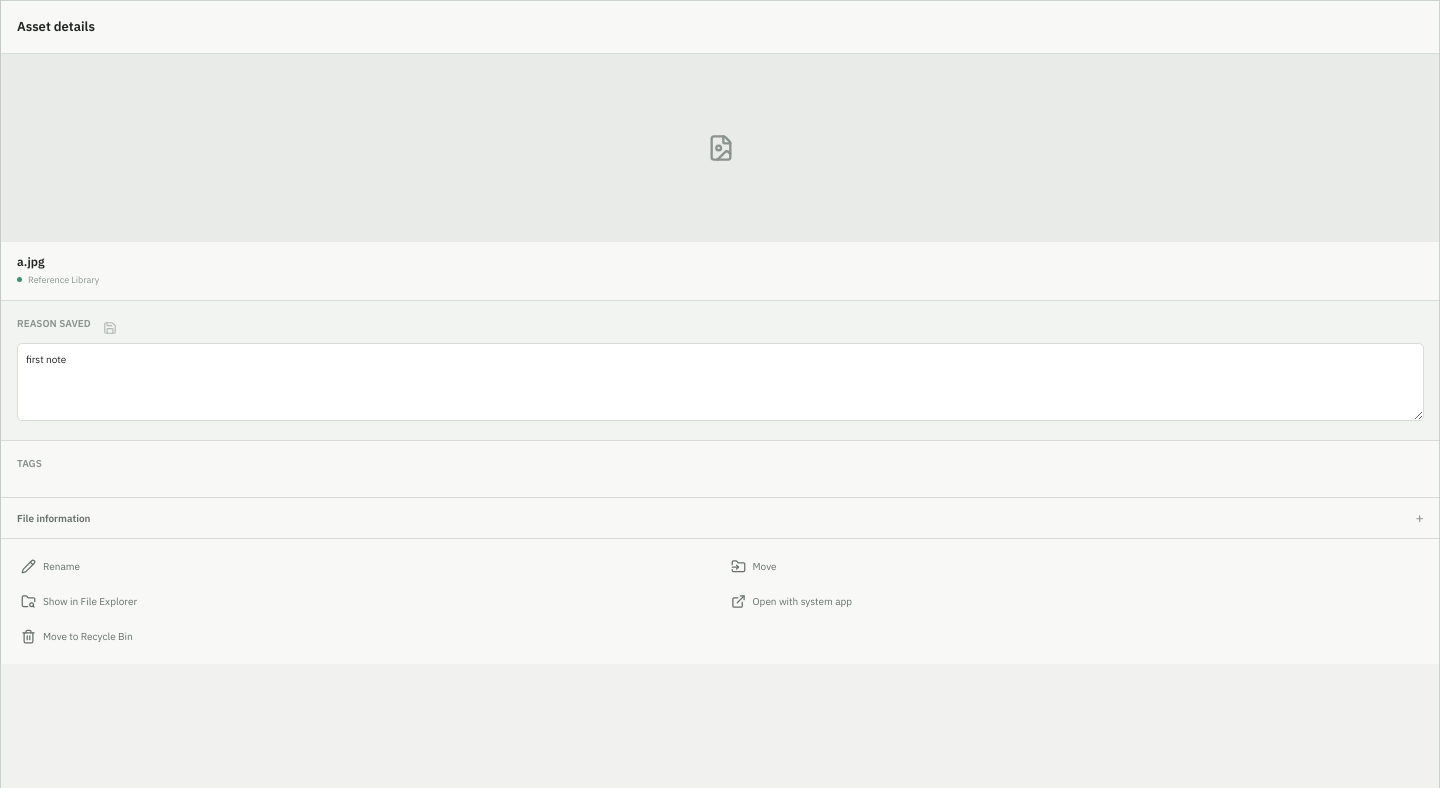
Test case: inspector asset transition › expands the file information to reveal technical metadata and the path
Expected: the text "File information" is shown, [1,498,1439,539]
Click the heading "File information" at (54, 518), box [17,512,90,524]
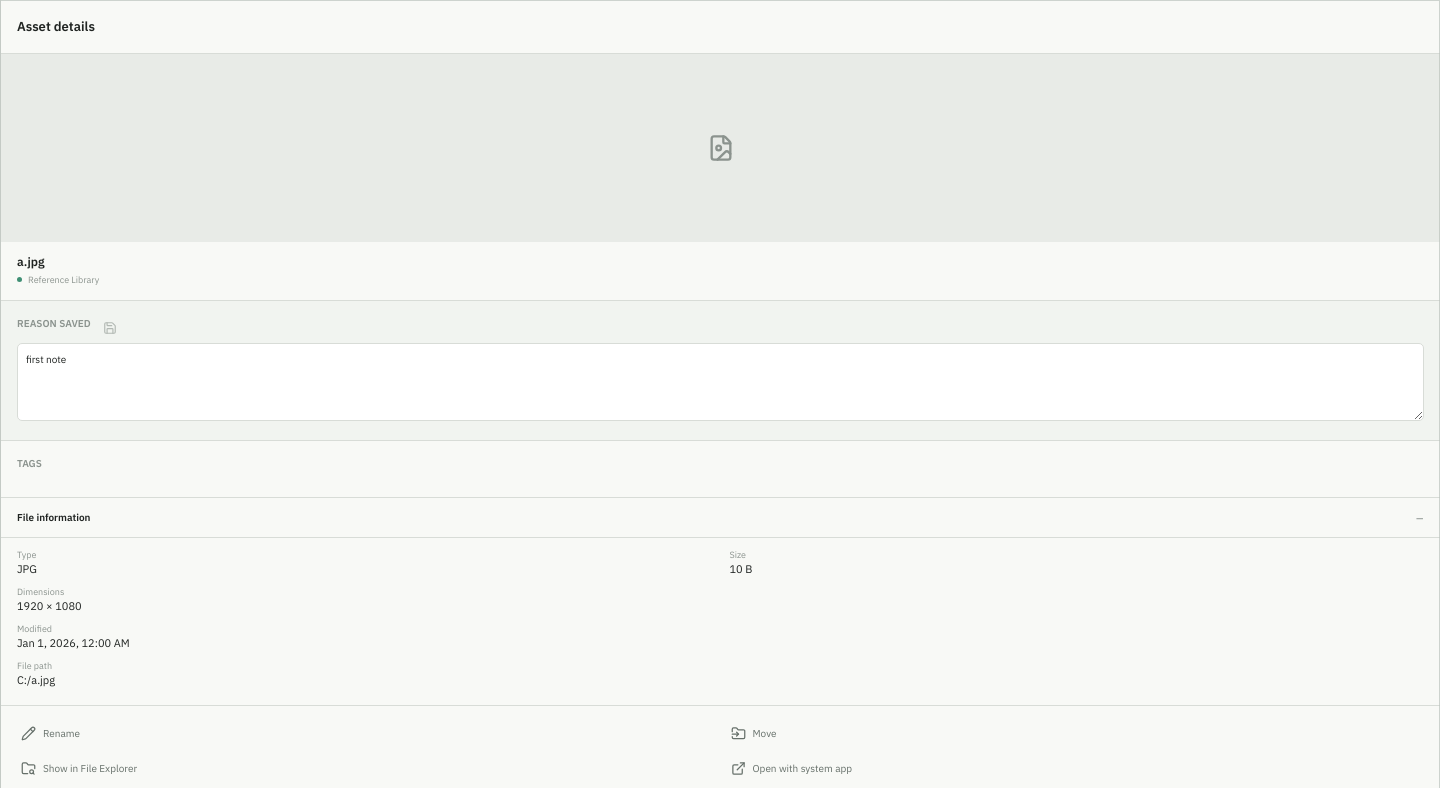
Now the text "1920 × 1080" is shown, box [17,600,82,614]
Now the text "C:/a.jpg" is shown, box [17,674,55,688]
